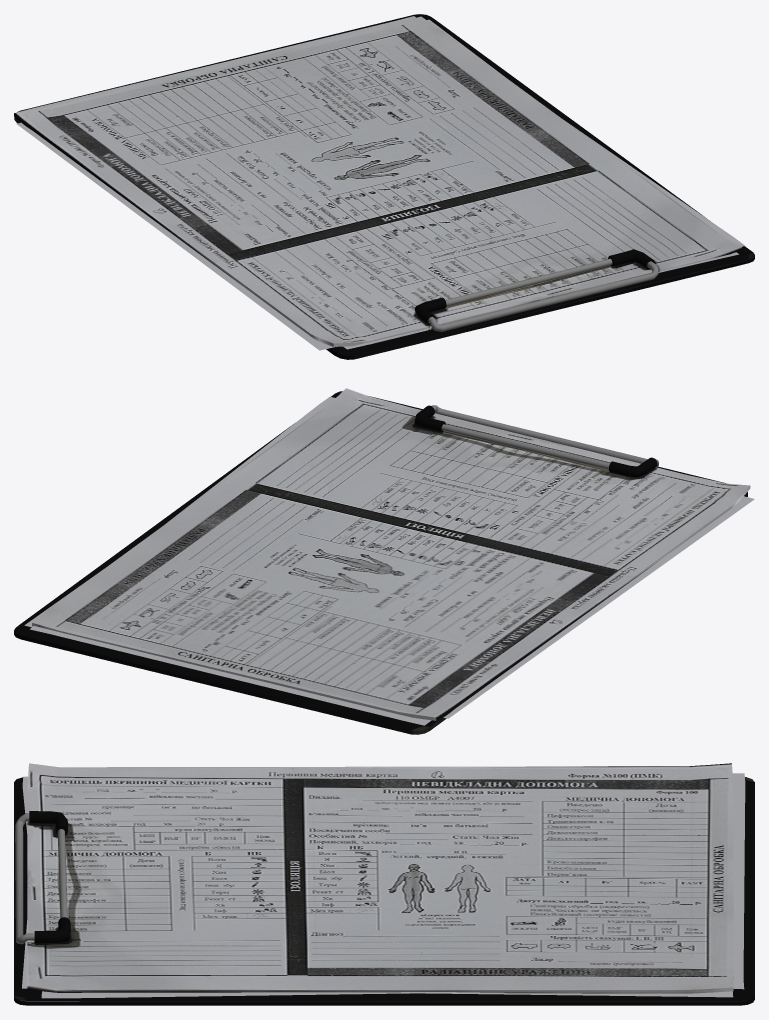
Rendered from bodychart.glb.
3 views of the same model, one above another, from view 1: azimuth 30°, elevation 25°; view 2: azimuth 150°, elevation 25°; view 3: azimuth 270°, elevation 25° (orthographic). The views are drawn at different scales.
Parts seen in each view (by area): view 1: Cube; view 2: Cube; view 3: Cube.
Part boxes in pixels (box(x1,y1,x2,y2)): Cube: box(14, 14, 754, 359); Cube: box(14, 388, 754, 734); Cube: box(14, 763, 754, 1005).
Bounding box in the file's own units: 0.4605 × 0.0203 × 0.6229.
2 materials, 2 textured.
